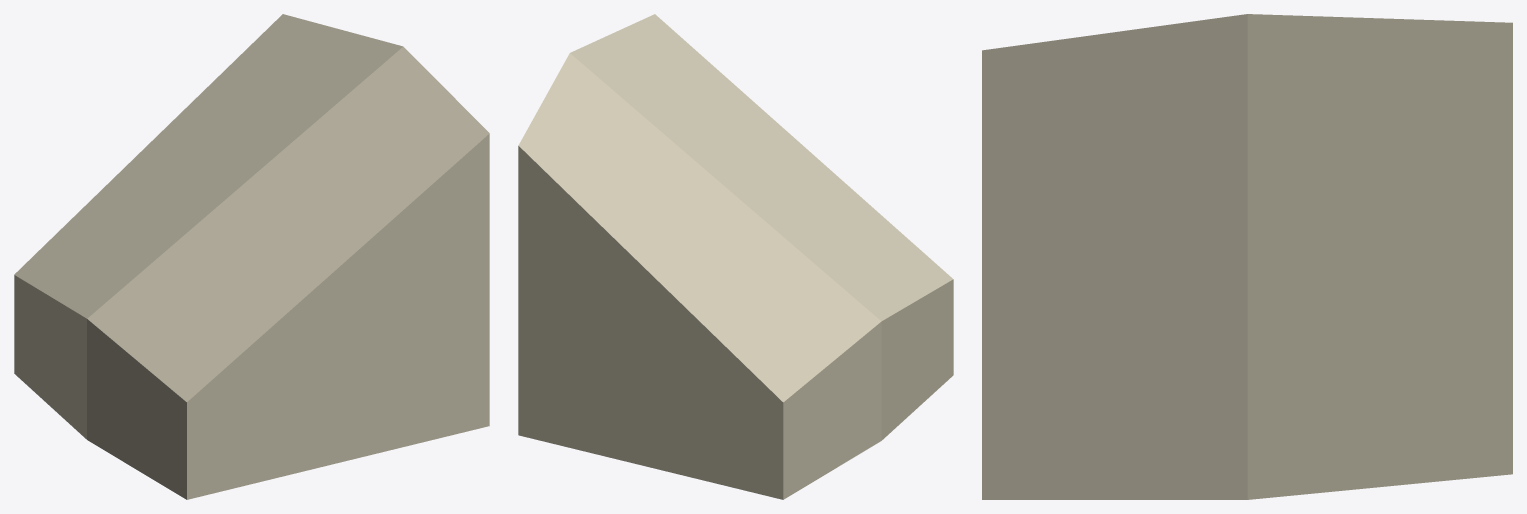
Rendered from Rock_Square_s_01.fbx.
3 views of the same model, side by side, from view 1: azimuth 30°, elevation 25°; view 2: azimuth 150°, elevation 25°; view 3: azimuth 270°, elevation 25° (orthographic). The views are drawn at different scales.
Parts seen in each view (by area): view 1: Rock_Square_s_01; view 2: Rock_Square_s_01; view 3: Rock_Square_s_01.
Boxes of the visible parts, x1,y1,x2,y2 form: Rock_Square_s_01: [14, 14, 489, 499]; Rock_Square_s_01: [518, 14, 953, 499]; Rock_Square_s_01: [982, 14, 1512, 499].
Size of the model in its own units: 50.75 by 48.5 by 48.
